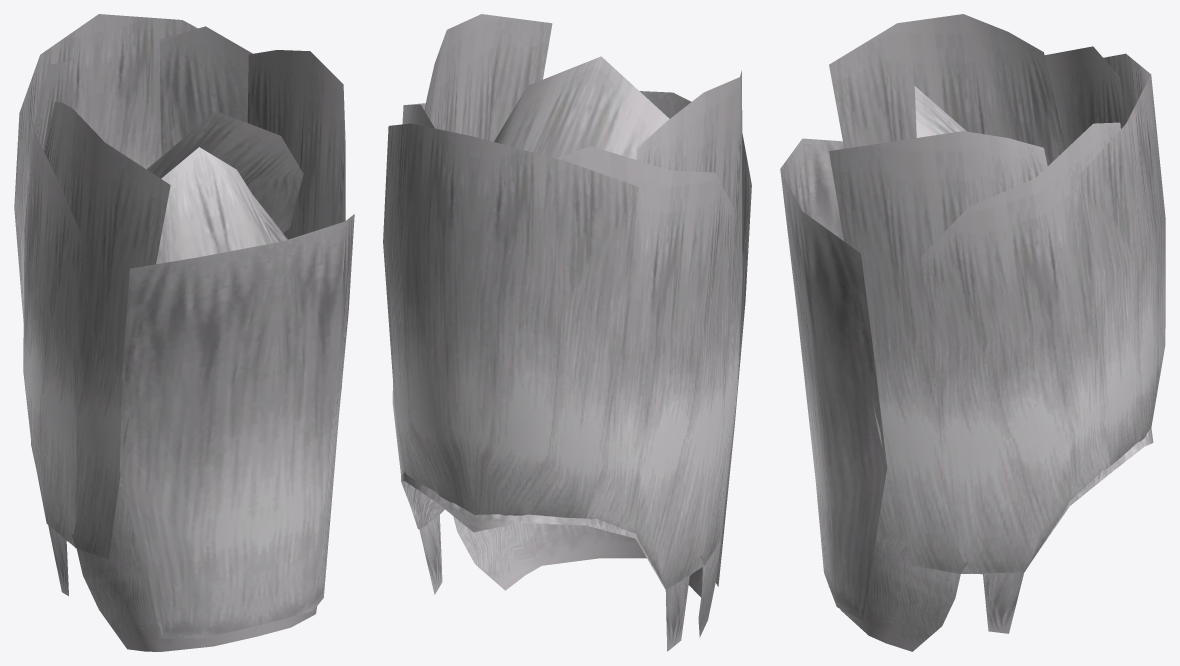
Rendered from Martial arts male hair 26.glb.
3 views of the same model, side by side, from view 1: azimuth 30°, elevation 25°; view 2: azimuth 150°, elevation 25°; view 3: azimuth 270°, elevation 25° (orthographic). The views are drawn at different scales.
Visible parts, largest first — view 1: Object01_0; view 2: Object01_0; view 3: Object01_0.
Part boxes in pixels (bbox=[...]): Object01_0: bbox=[14, 14, 354, 651]; Object01_0: bbox=[383, 14, 751, 651]; Object01_0: bbox=[780, 14, 1165, 651].
Bounding box in the file's own units: 0.1695 × 0.3252 × 0.2123.
1 material, 1 textured.
